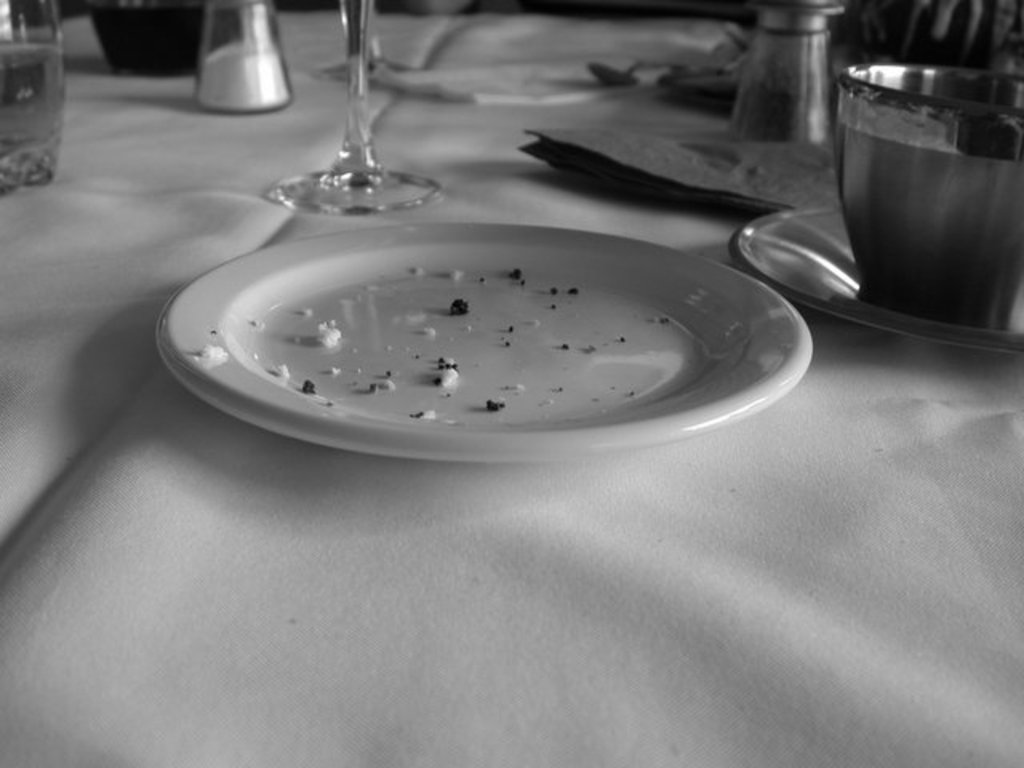plate: (134, 198, 804, 449)
